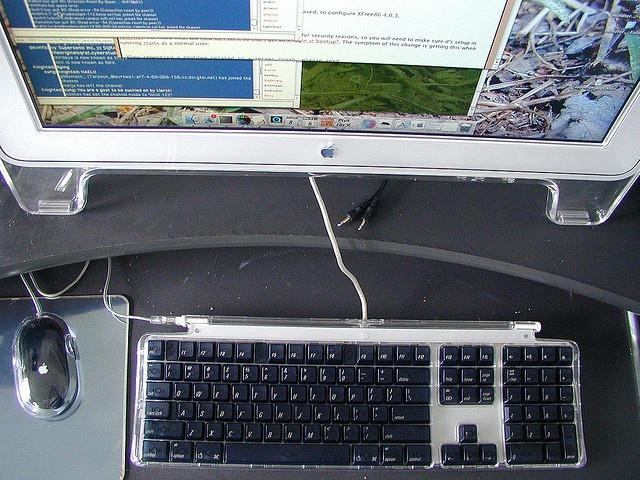AIO PC-Monitor-TV: (0, 0, 639, 184)
